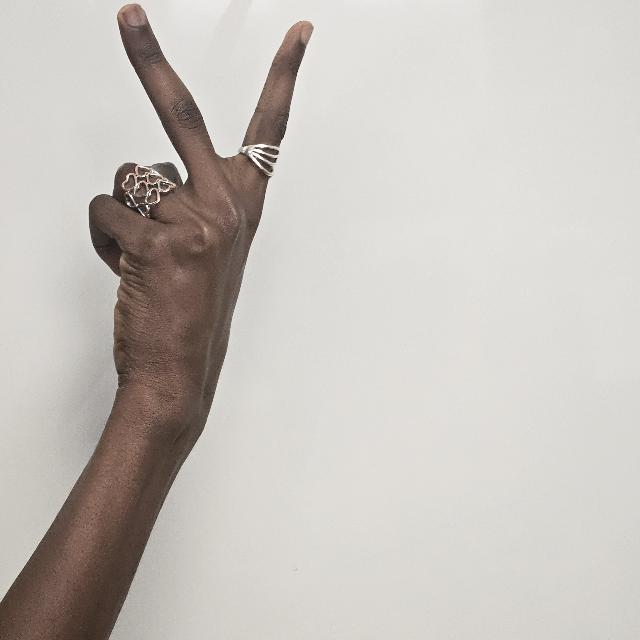Triangulo: (75, 4, 319, 458)
